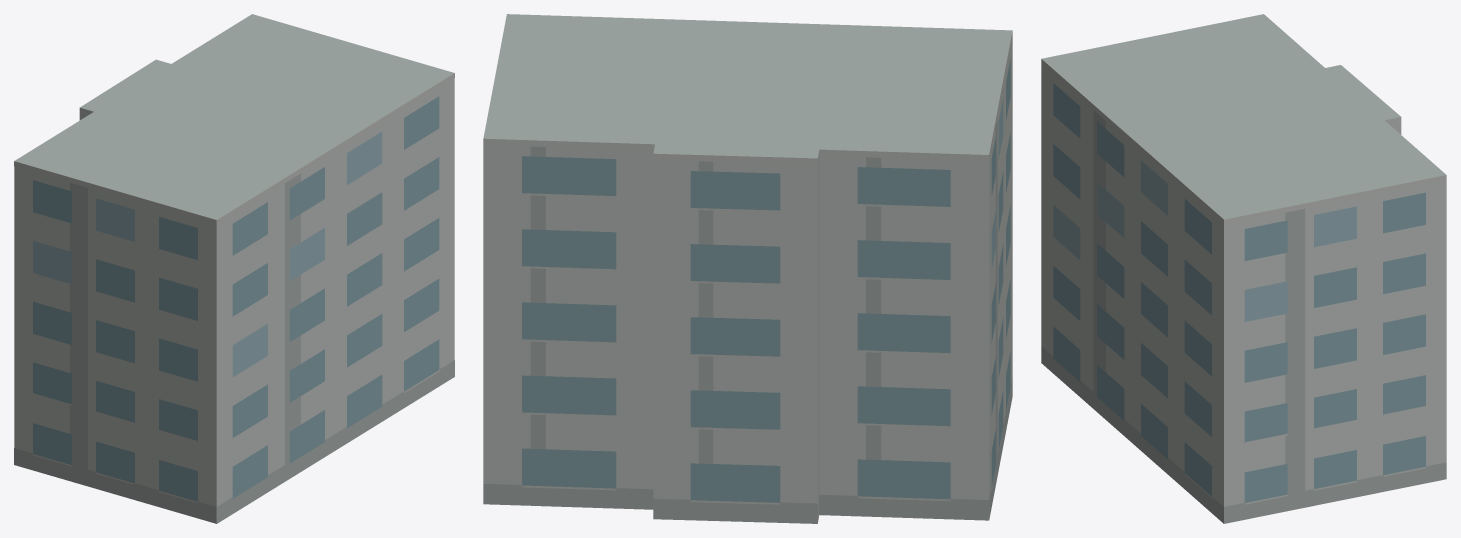
The model's file is survey-upis-33032130.glb.
The picture shows the model from 3 angles, left to right: view 1: azimuth 30°, elevation 25°; view 2: azimuth 150°, elevation 25°; view 3: azimuth 270°, elevation 25°; orthographic projection. The views are drawn at different scales.
Visible parts, largest first — view 1: survey-upis-33032130.tmp; view 2: survey-upis-33032130.tmp; view 3: survey-upis-33032130.tmp.
Part boxes in pixels (x1,y1,x2,y2): survey-upis-33032130.tmp: [14, 14, 454, 523]; survey-upis-33032130.tmp: [483, 14, 1012, 523]; survey-upis-33032130.tmp: [1041, 14, 1446, 523].
Size of the model in its own units: 20.45 by 14.1 by 17.03.
